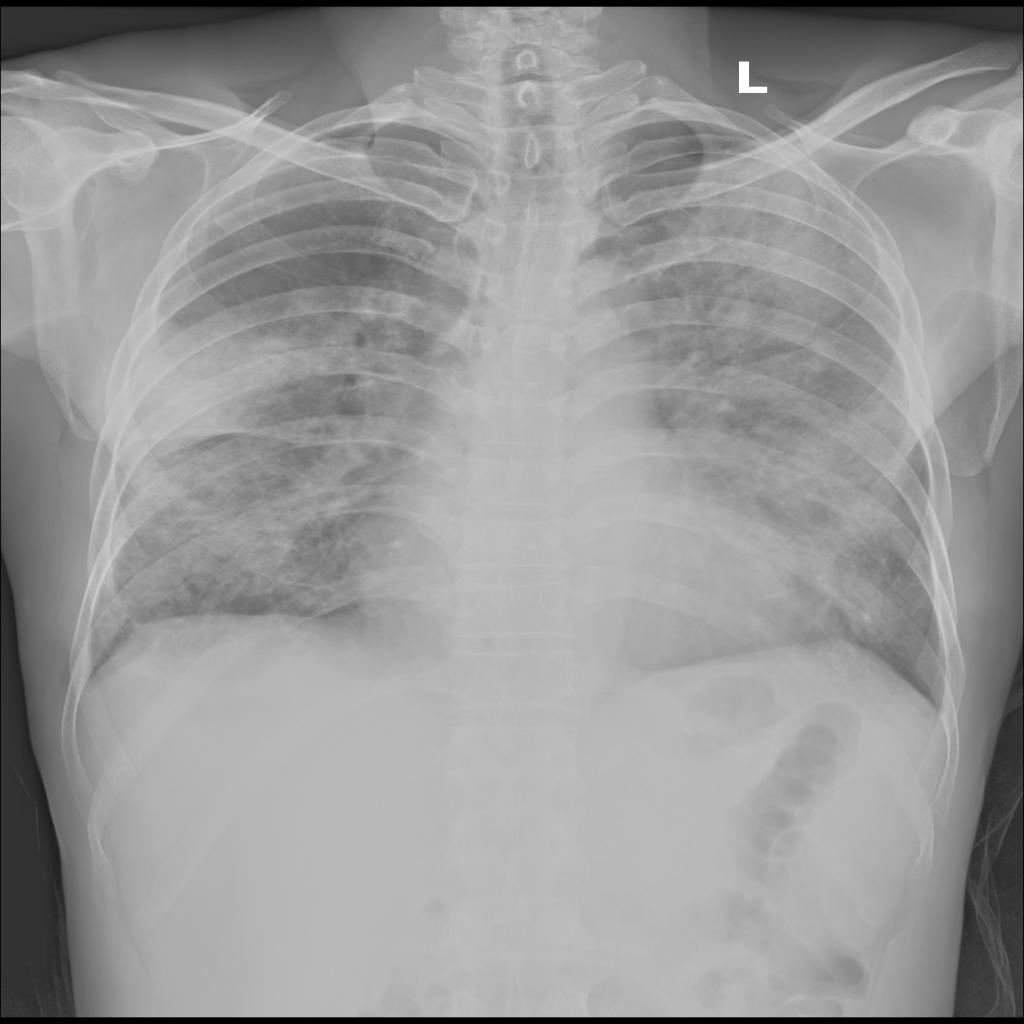Nodule: (107, 341, 258, 461)
